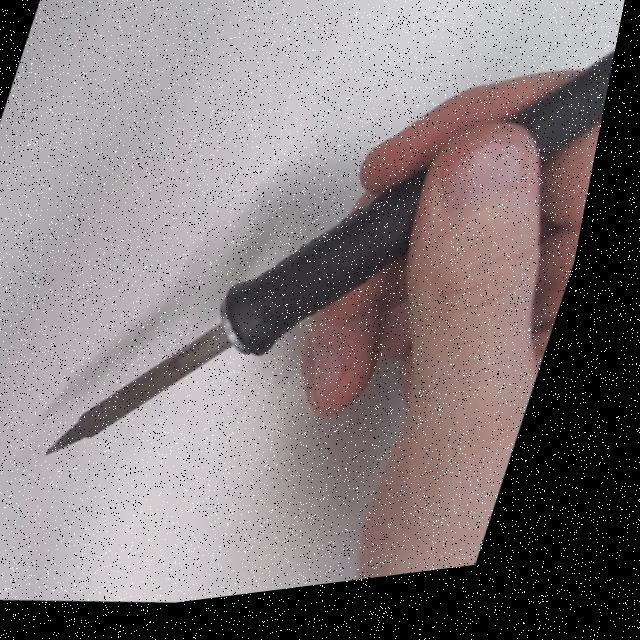soldering_iron: (33, 0, 633, 521)
